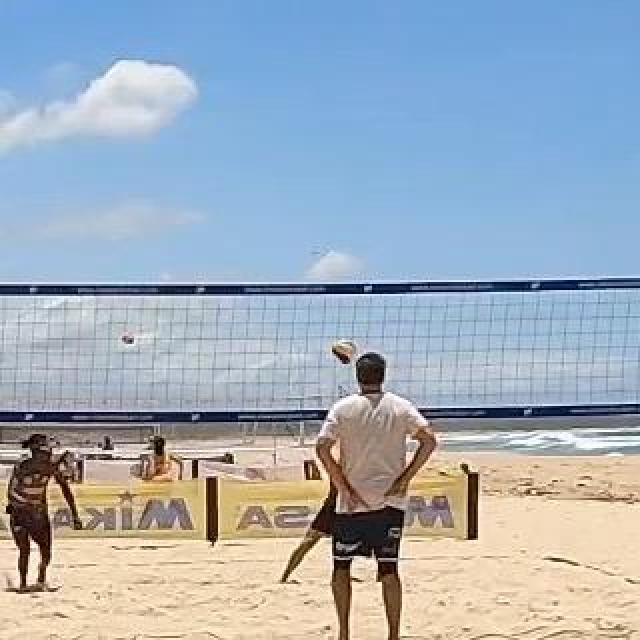volleyball: (332, 339, 360, 365), (121, 333, 133, 347)
